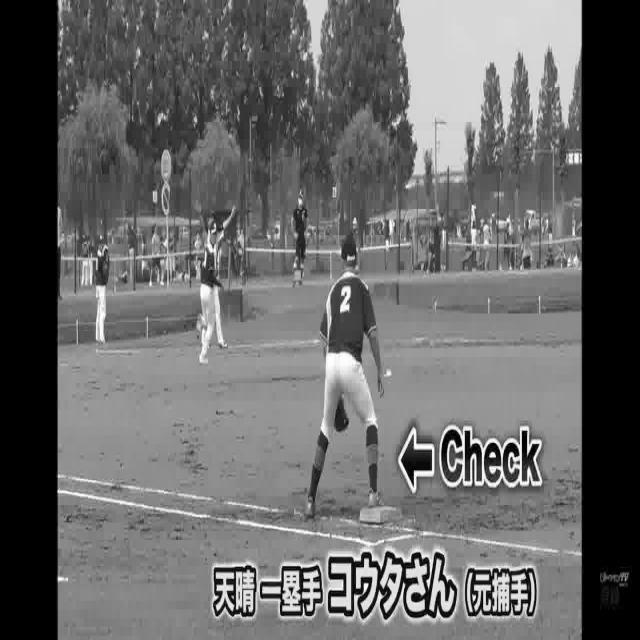base: (361, 502, 396, 527)
shoe: (366, 484, 386, 508), (304, 491, 316, 514), (200, 350, 210, 371), (197, 308, 204, 330)
